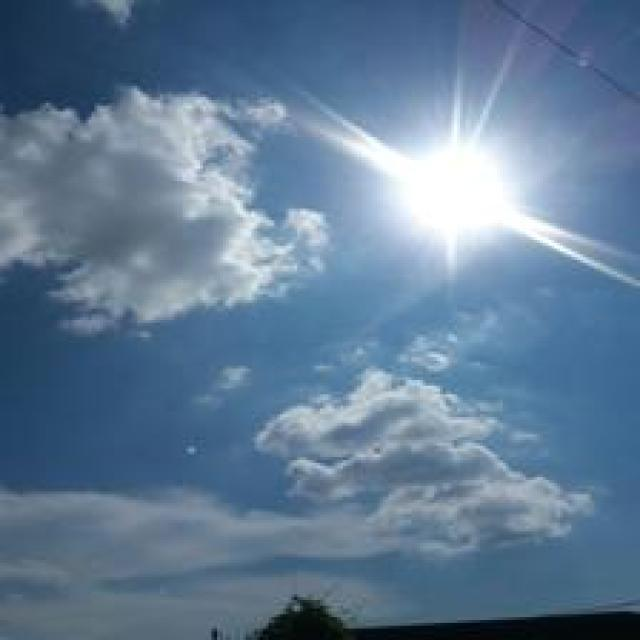sun: (382, 145, 515, 234)
